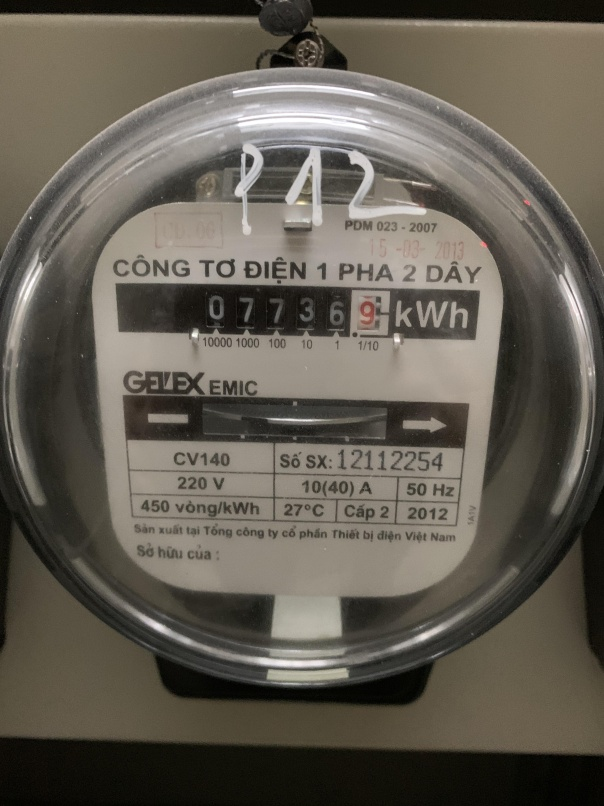counter: (115, 282, 483, 342)
electricity_meter: (4, 67, 604, 685)
